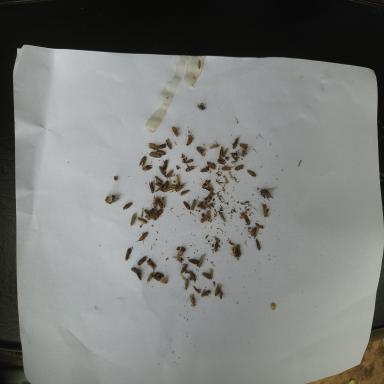pbw: (146, 258, 157, 273), (150, 191, 158, 211), (135, 232, 148, 244), (175, 181, 188, 193), (105, 194, 120, 204), (203, 192, 215, 204), (200, 200, 213, 210), (189, 292, 197, 308), (232, 134, 240, 149), (146, 272, 154, 287), (145, 142, 159, 150), (138, 255, 148, 266), (262, 203, 269, 218), (186, 131, 193, 146), (179, 264, 188, 275), (171, 256, 182, 265), (204, 181, 213, 192), (222, 164, 236, 171), (125, 247, 132, 261), (184, 165, 198, 172), (189, 270, 196, 284), (255, 238, 262, 252), (166, 182, 178, 190), (164, 138, 172, 150), (214, 239, 221, 252), (130, 213, 137, 226), (196, 146, 205, 156), (246, 169, 256, 178), (196, 202, 206, 211), (138, 217, 148, 226), (214, 283, 220, 297), (162, 178, 169, 190), (141, 164, 153, 171), (166, 169, 175, 178), (135, 270, 143, 280), (200, 213, 208, 223), (209, 142, 219, 150), (122, 202, 132, 210), (202, 272, 212, 280), (198, 255, 204, 268), (148, 152, 161, 158), (241, 145, 247, 158), (139, 156, 146, 167), (188, 259, 199, 266), (176, 247, 187, 254), (144, 209, 151, 220), (157, 197, 163, 209), (178, 190, 190, 196), (207, 161, 216, 169), (162, 187, 174, 193), (172, 126, 178, 138), (201, 290, 211, 297), (159, 166, 166, 176), (231, 246, 237, 257), (155, 150, 166, 156), (244, 214, 250, 225), (236, 244, 241, 257), (154, 176, 162, 184), (151, 210, 159, 218), (231, 154, 239, 162), (202, 180, 210, 188), (255, 222, 264, 229), (159, 277, 168, 284), (154, 181, 163, 188), (155, 272, 165, 278), (234, 164, 244, 170), (238, 142, 248, 148), (219, 144, 223, 159), (175, 174, 180, 186), (149, 181, 154, 193), (220, 212, 226, 222), (193, 286, 201, 293), (218, 288, 223, 299), (254, 227, 259, 238), (222, 148, 228, 157), (184, 201, 190, 210), (200, 167, 209, 173), (207, 209, 211, 222), (191, 200, 196, 210), (250, 227, 255, 237), (163, 160, 168, 170), (217, 158, 225, 164), (153, 274, 159, 282), (184, 278, 188, 290), (158, 143, 166, 149), (162, 197, 166, 208), (152, 154, 162, 158), (185, 159, 193, 164), (131, 267, 137, 273)
